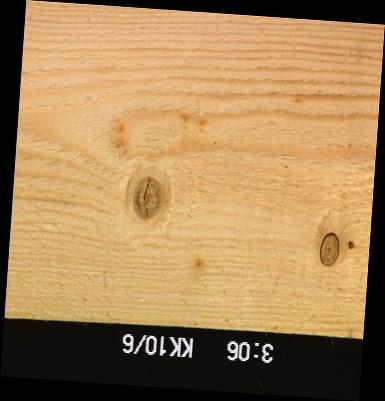dry_knot: (318, 231, 339, 267), (346, 240, 354, 249)
sound_knot: (131, 175, 164, 222)
